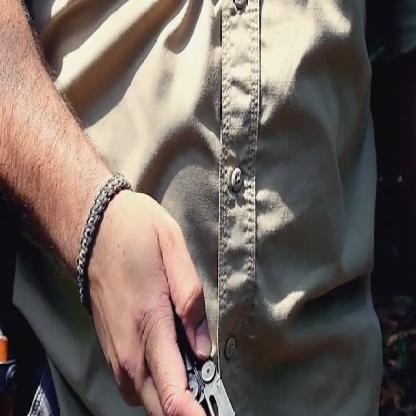knife: (122, 284, 268, 415)
